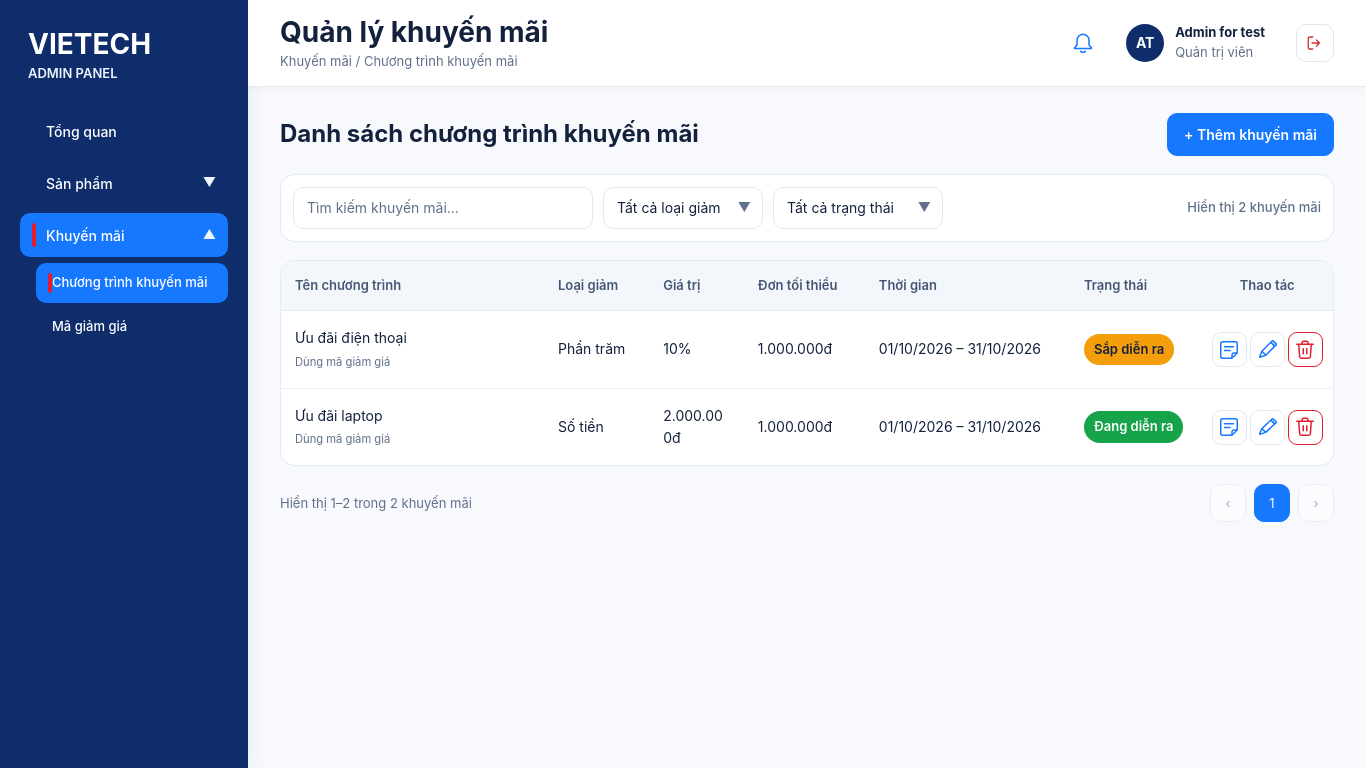
Scenario: accent search and type/status filters combine and reset pagination
Type "uu dai" into the search field. click: (443, 208)
box: [293, 187, 593, 229]
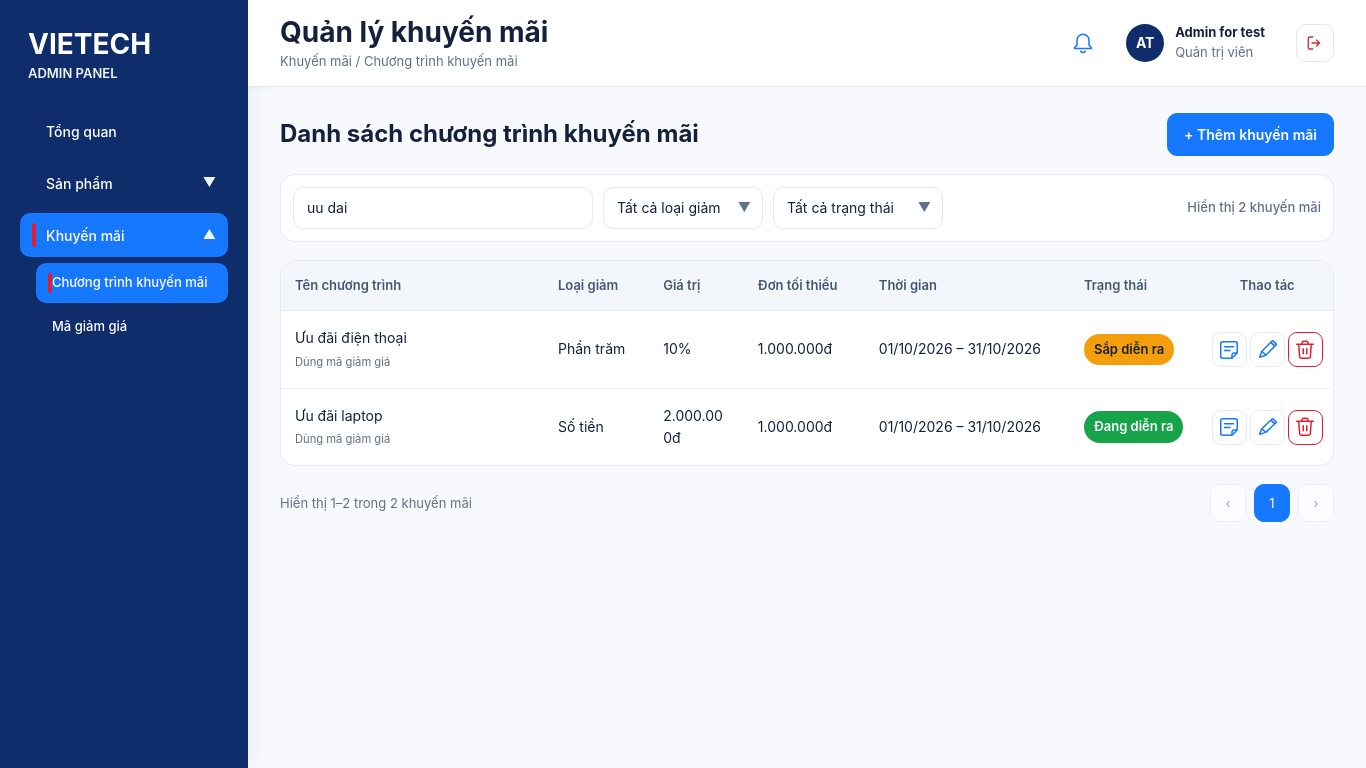
Select "Số tiền" in the dropdown named "Loại giảm". click: (683, 208)
box: [603, 187, 763, 229]
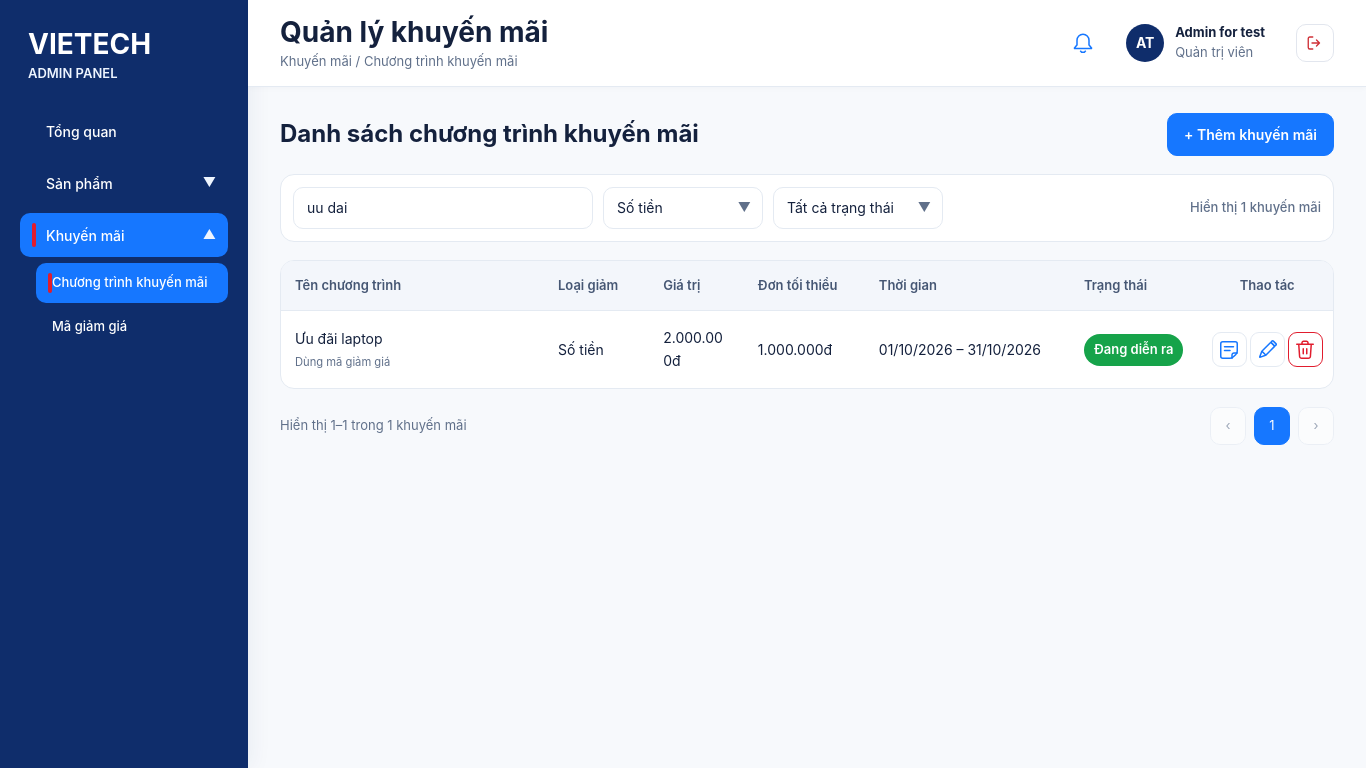
Select "Đang diễn ra" in the dropdown named "Trạng thái khuyến mãi". click: (858, 208)
box: [773, 187, 943, 229]
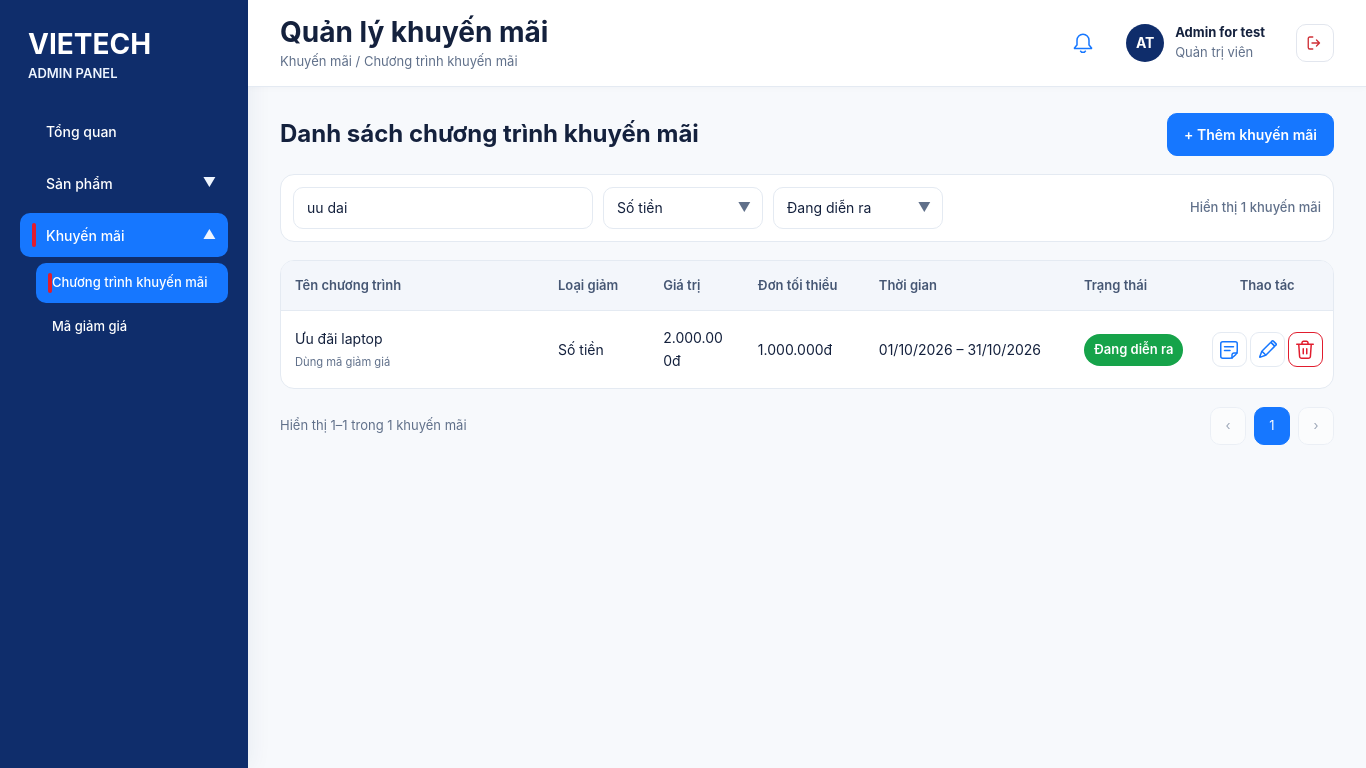
Expected: the text "Ưu đãi điện thoại" is not shown
Expected: the text "Hiển thị 1 khuyến mãi" is shown, [1190, 198, 1321, 218]
Select "Đã kết thúc" in the dropdown named "Trạng thái khuyến mãi". click: (858, 208)
box: [773, 187, 943, 229]
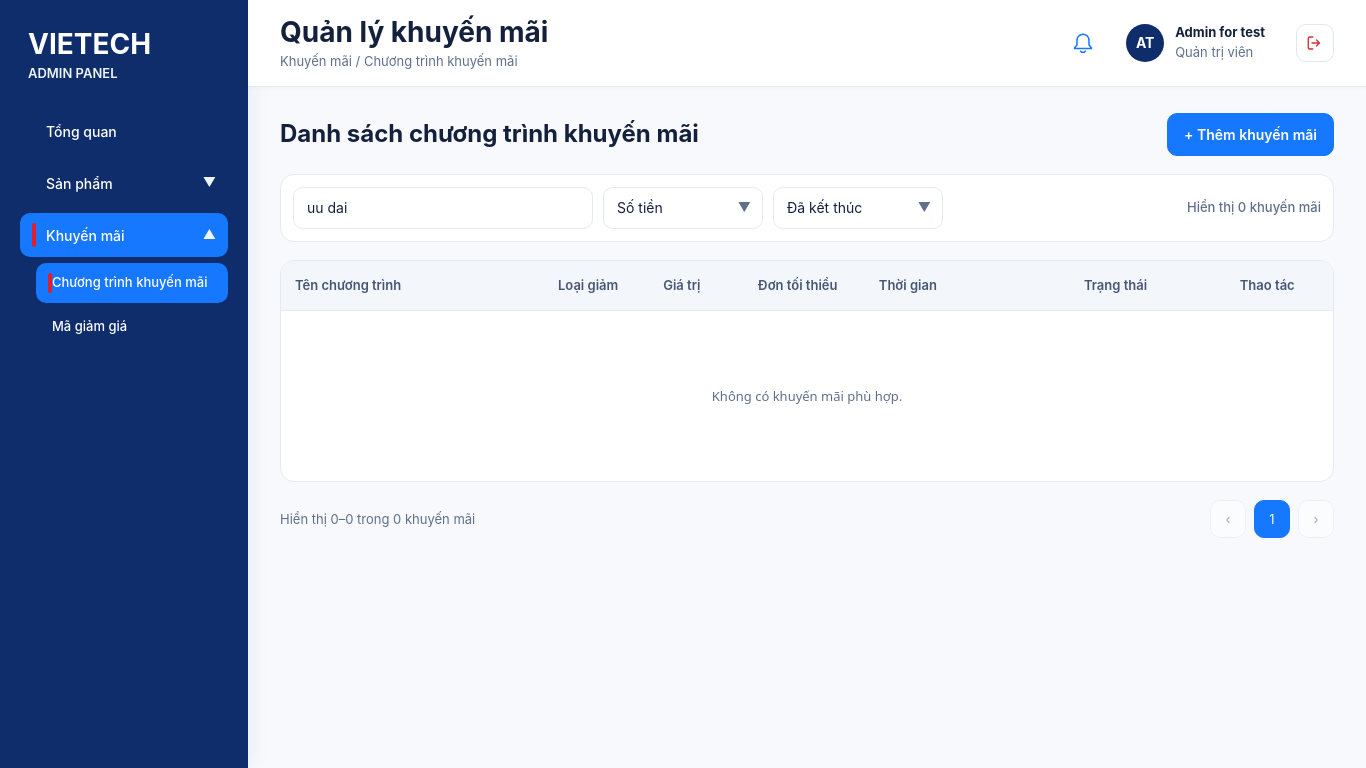
Expected: the heading "Không có khuyến mãi phù hợp." is shown, [712, 387, 902, 406]
